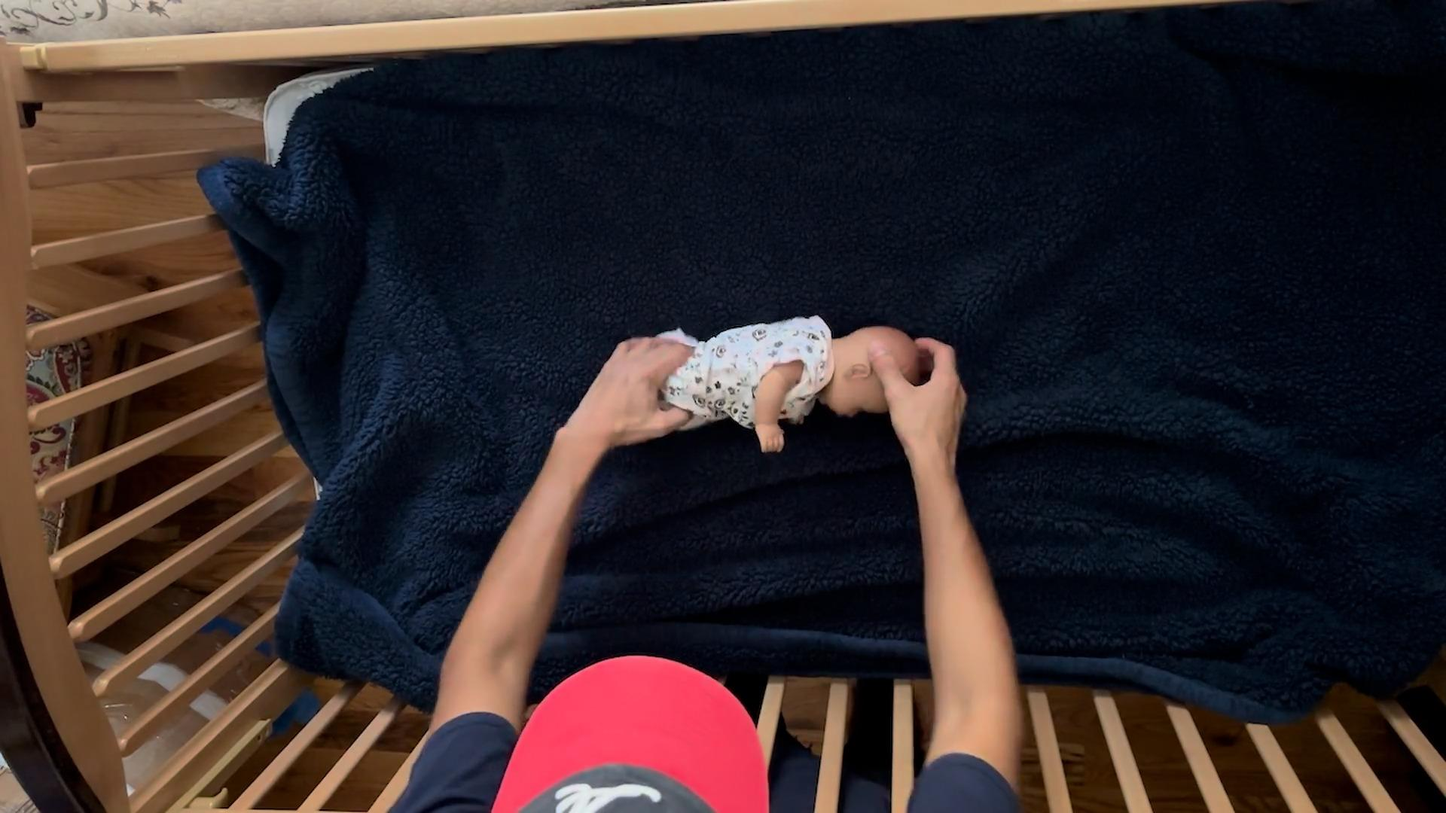baby: (594, 316, 920, 455)
